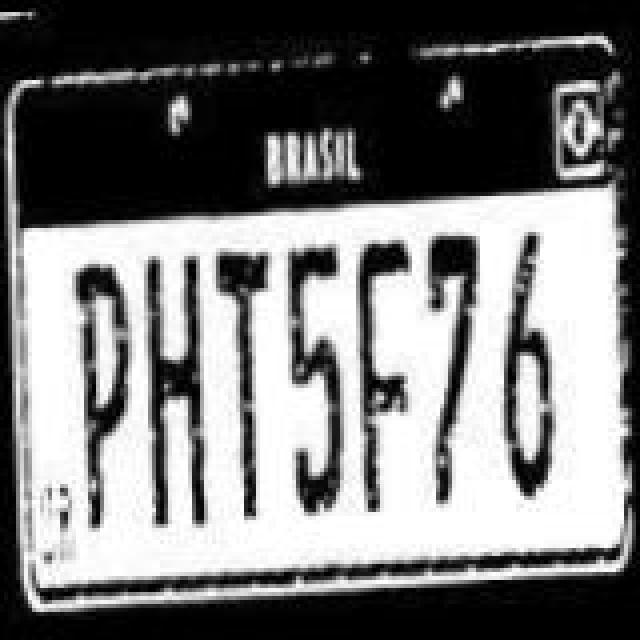5: (276, 228, 356, 528)
6: (494, 216, 570, 512)
7: (412, 216, 500, 516)
F: (346, 228, 422, 524)
H: (136, 242, 216, 538)
P: (64, 248, 144, 544)
T: (212, 240, 284, 528)
